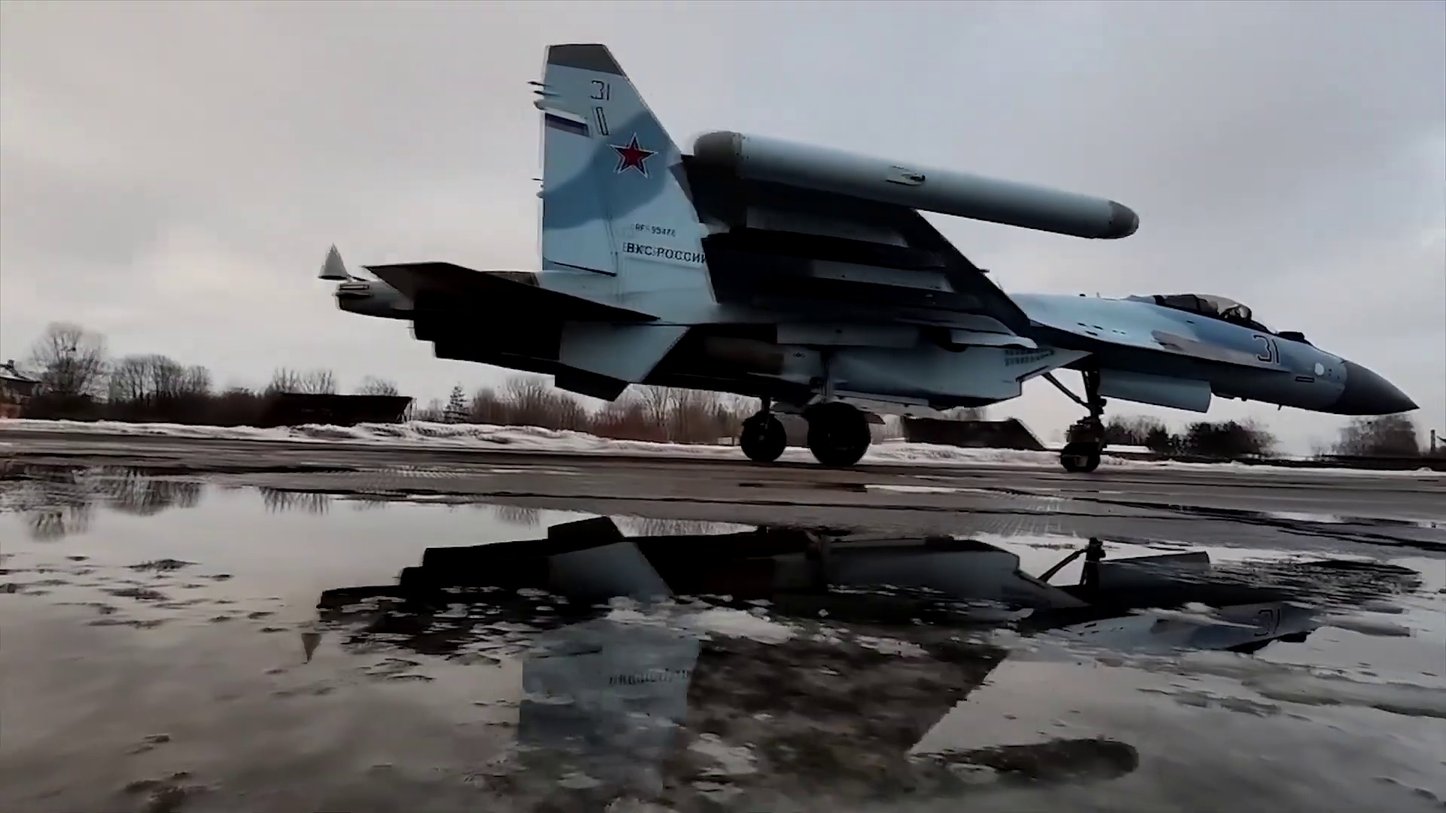Su35: (316, 45, 1422, 473)
